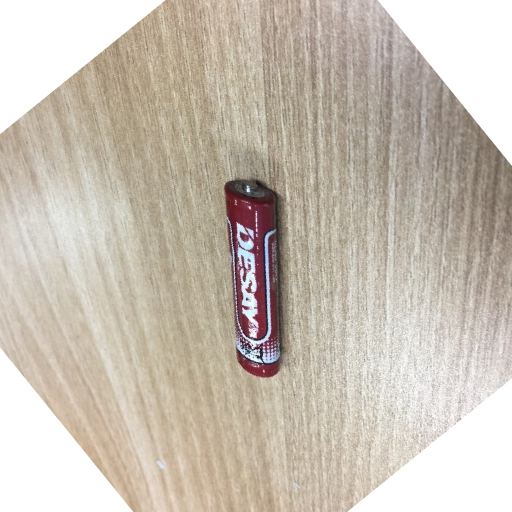Battery_0: (208, 160, 302, 393)
